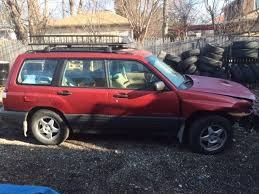Dent: (221, 84, 255, 129)
